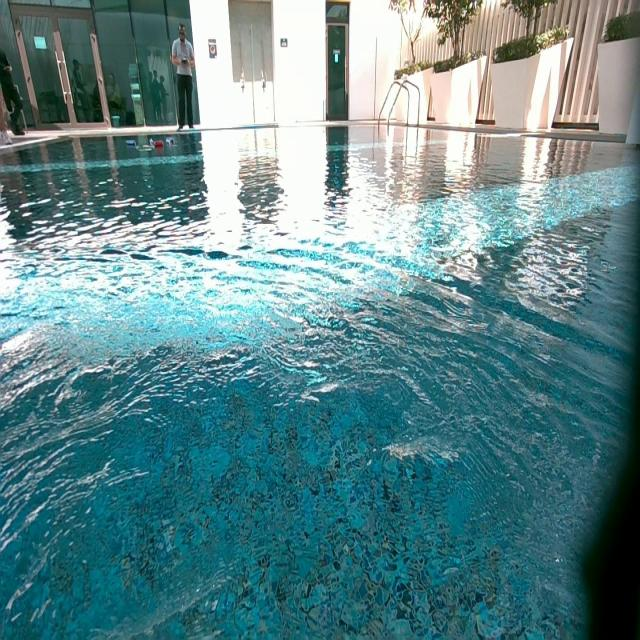Cans: (154, 139, 164, 151), (126, 139, 136, 147), (166, 138, 174, 146)
